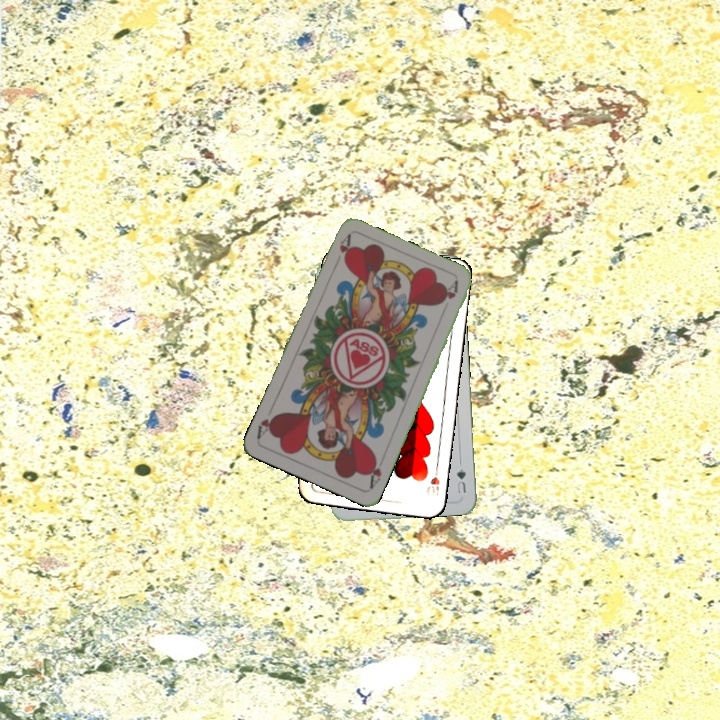GU: (452, 464, 469, 497)
H10: (422, 461, 442, 499)
HA: (330, 231, 354, 270), (364, 452, 384, 491)
